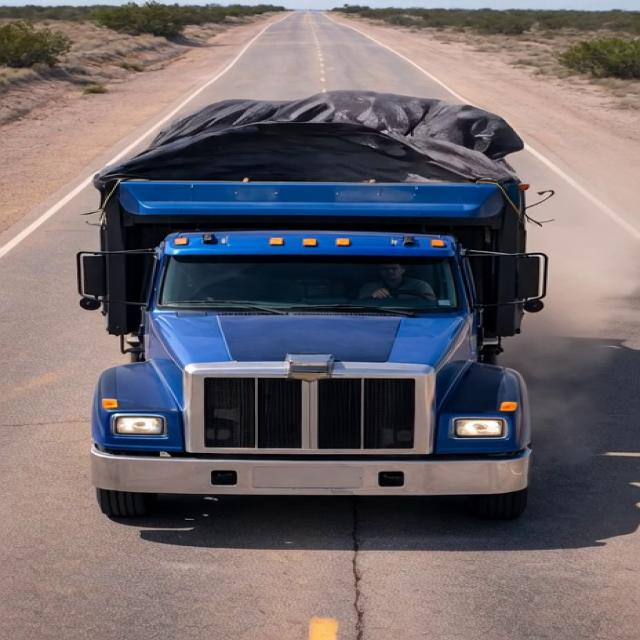trailer: (93, 87, 566, 229)
truck: (63, 71, 588, 524)
